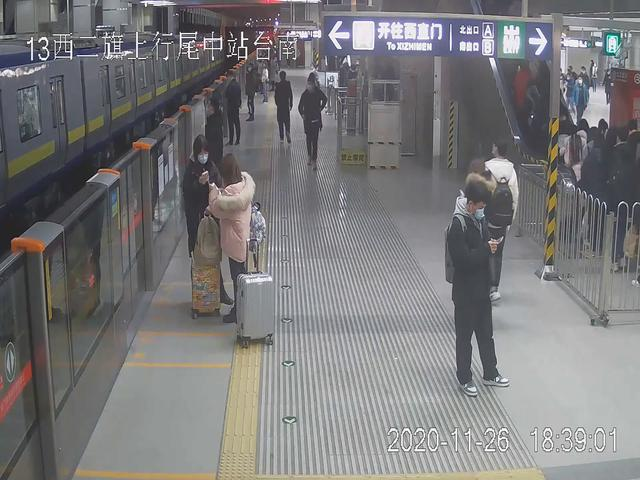person: (440, 178, 508, 398), (178, 132, 228, 287), (217, 155, 262, 323), (487, 137, 521, 313), (296, 72, 333, 171), (270, 66, 299, 144), (243, 61, 262, 125)
